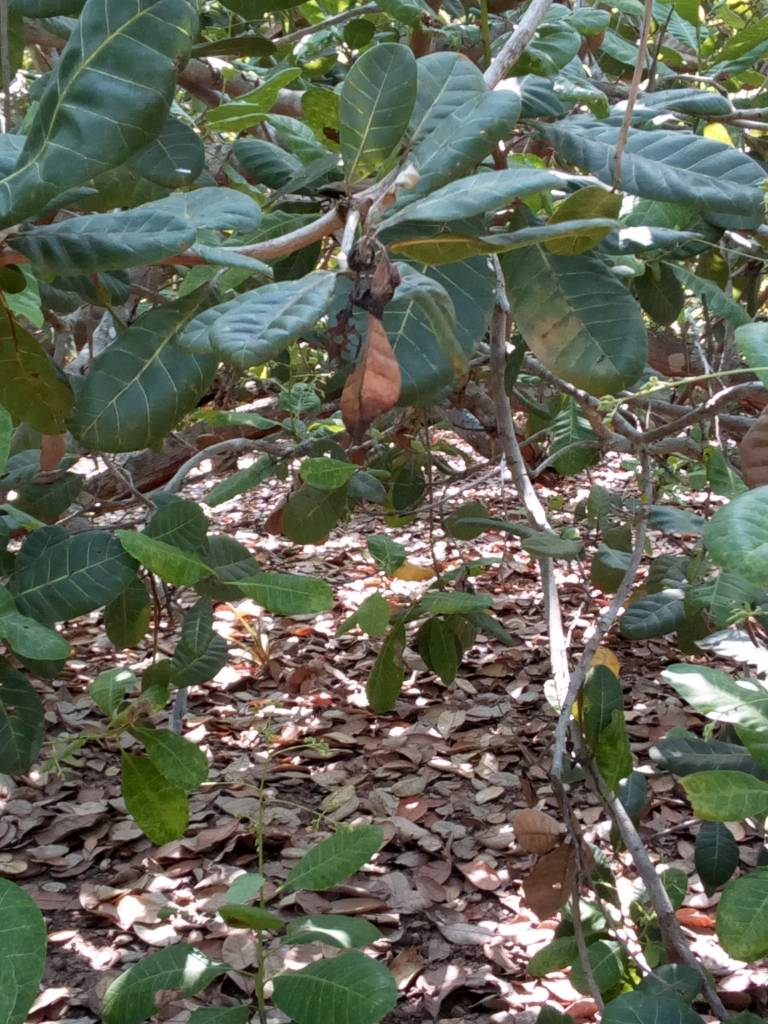Dessèchement des bourgeons: (333, 235, 409, 339)
